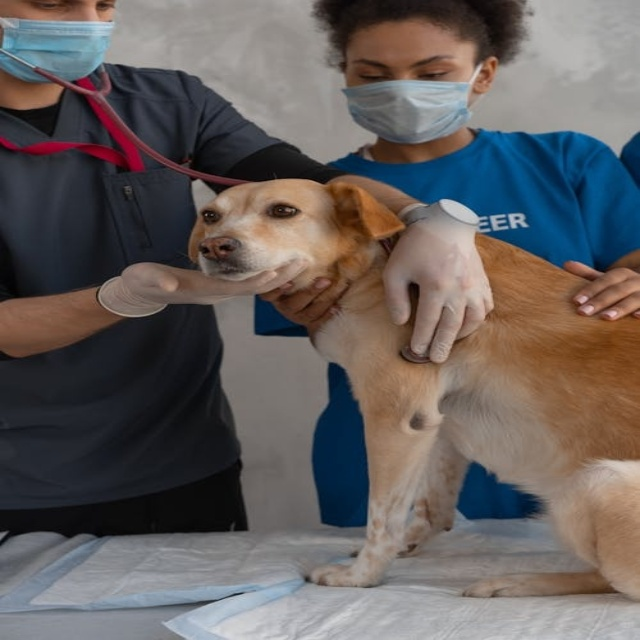Guantes: (380, 199, 493, 363), (99, 259, 283, 317)
Mascara: (342, 65, 481, 143), (0, 14, 113, 82)
Sin_gafas: (343, 52, 460, 82), (18, 2, 124, 16)
Sin_guantes: (566, 259, 640, 323), (266, 272, 350, 328)
